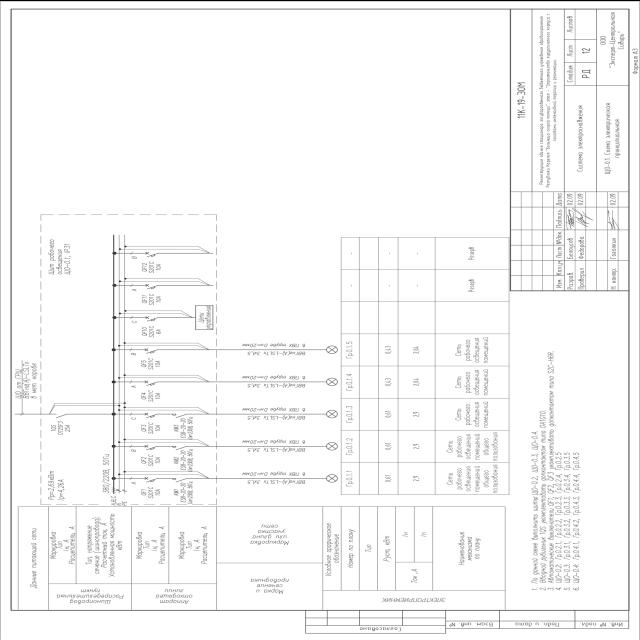-: (178, 416, 194, 440), (180, 448, 196, 472), (179, 480, 195, 504), (62, 241, 72, 275), (56, 419, 72, 435), (148, 453, 162, 468), (148, 323, 162, 338), (148, 419, 162, 434), (148, 292, 162, 306), (146, 485, 160, 499), (148, 356, 162, 370), (148, 388, 162, 402), (148, 260, 162, 274)
KM: (171, 444, 191, 452), (170, 474, 190, 482), (170, 411, 190, 418)
QF: (128, 476, 158, 484), (129, 442, 159, 450), (128, 410, 158, 418), (128, 378, 158, 386), (128, 346, 158, 354), (130, 314, 160, 322), (129, 282, 159, 290), (130, 250, 160, 258)
QS: (52, 411, 72, 418)
